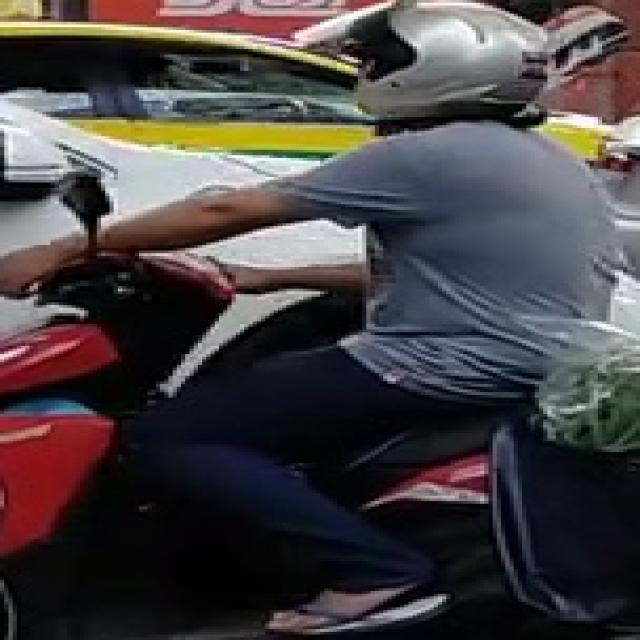door: (0, 0, 636, 637)
helmet: (290, 0, 552, 123)
